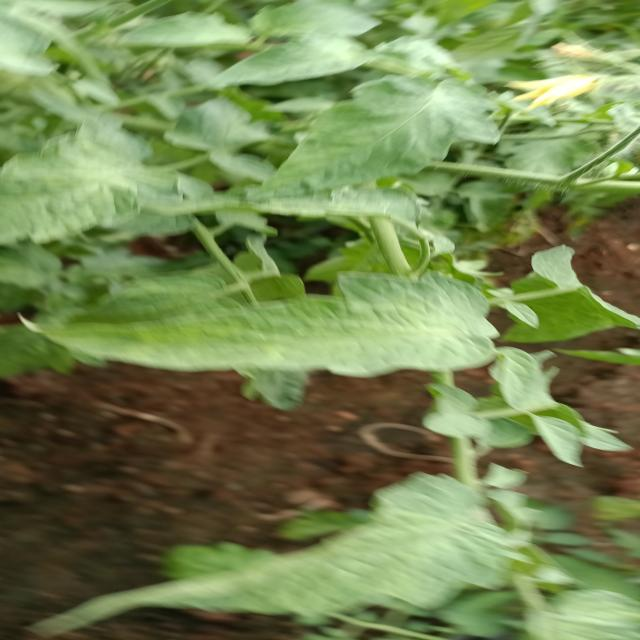Healthy Leaf: (21, 273, 523, 389)
